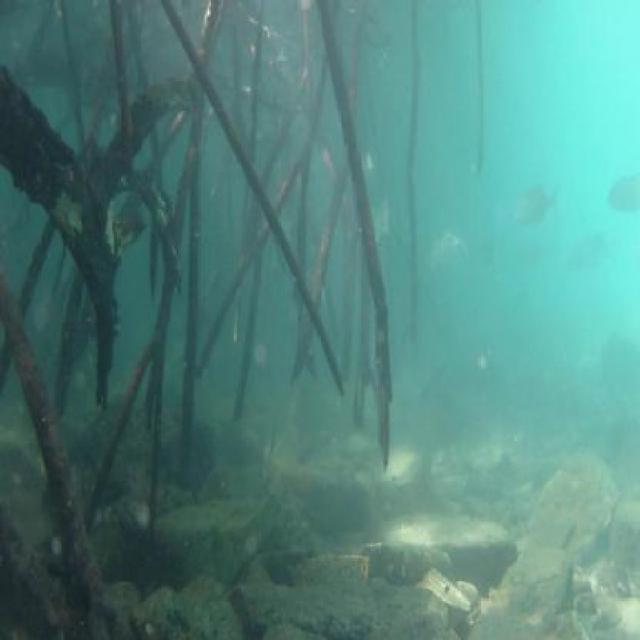Caranx_sexfasciatus_juvenile: (506, 181, 568, 236), (425, 224, 477, 278), (569, 229, 616, 280), (603, 162, 640, 218)
